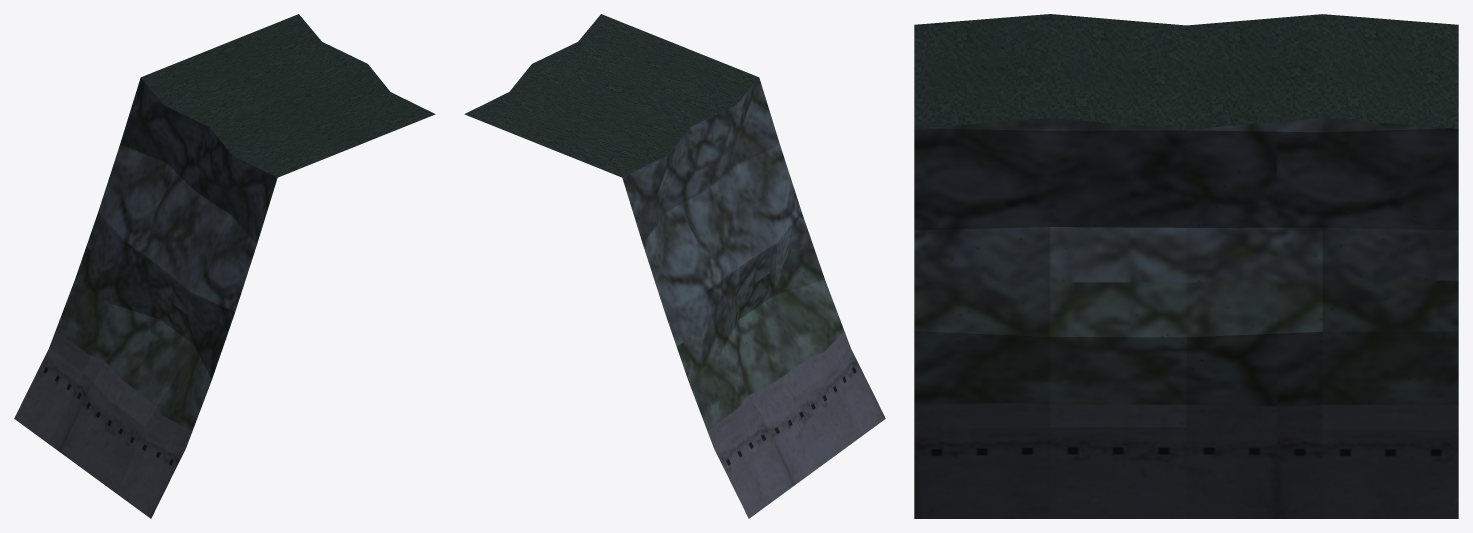
File: touge_cutslope_b.glb
3 views of the same model, side by side, from view 1: azimuth 30°, elevation 25°; view 2: azimuth 150°, elevation 25°; view 3: azimuth 270°, elevation 25° (orthographic). The views are drawn at different scales.
Visible parts, largest first — view 1: touge_cutslope_b; view 2: touge_cutslope_b; view 3: touge_cutslope_b.
Part boxes in pixels (x1,y1,x2,y2): touge_cutslope_b: [14, 14, 435, 518]; touge_cutslope_b: [464, 14, 885, 518]; touge_cutslope_b: [914, 14, 1458, 518].
Size of the model in its own units: 7.22 by 8.1 by 6.
Materials: 2 (2 with a texture image).
